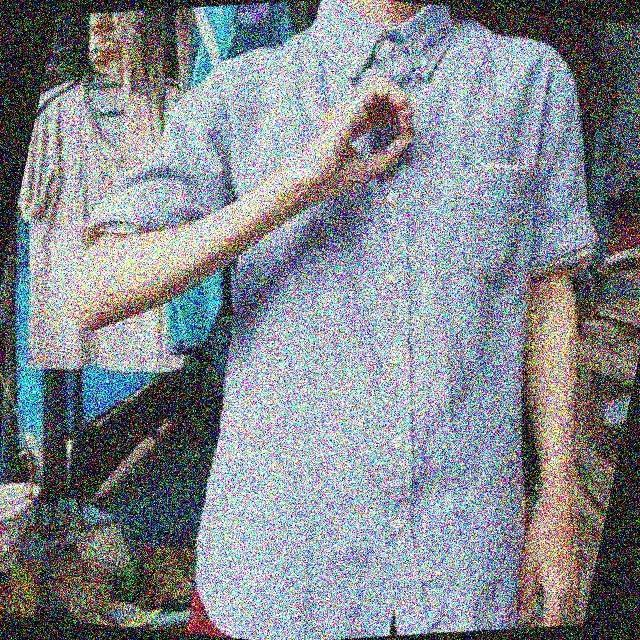O: (298, 68, 439, 206)
